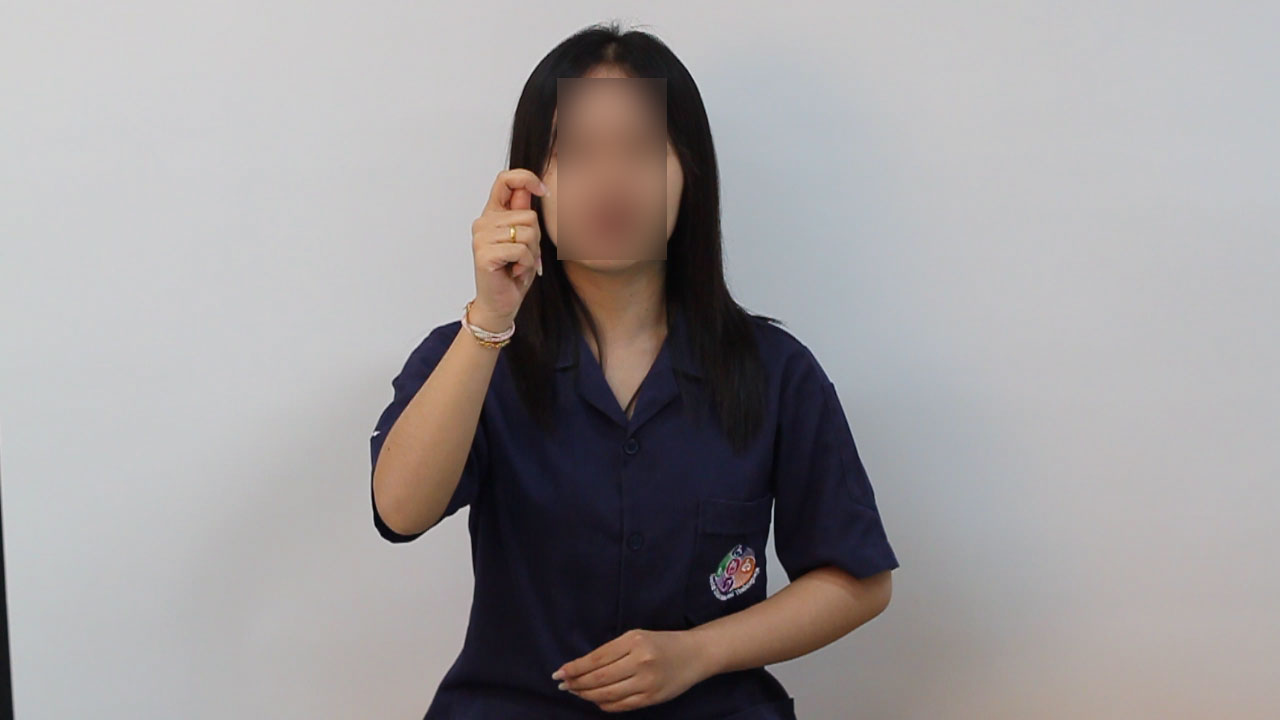or: (467, 161, 556, 321)
